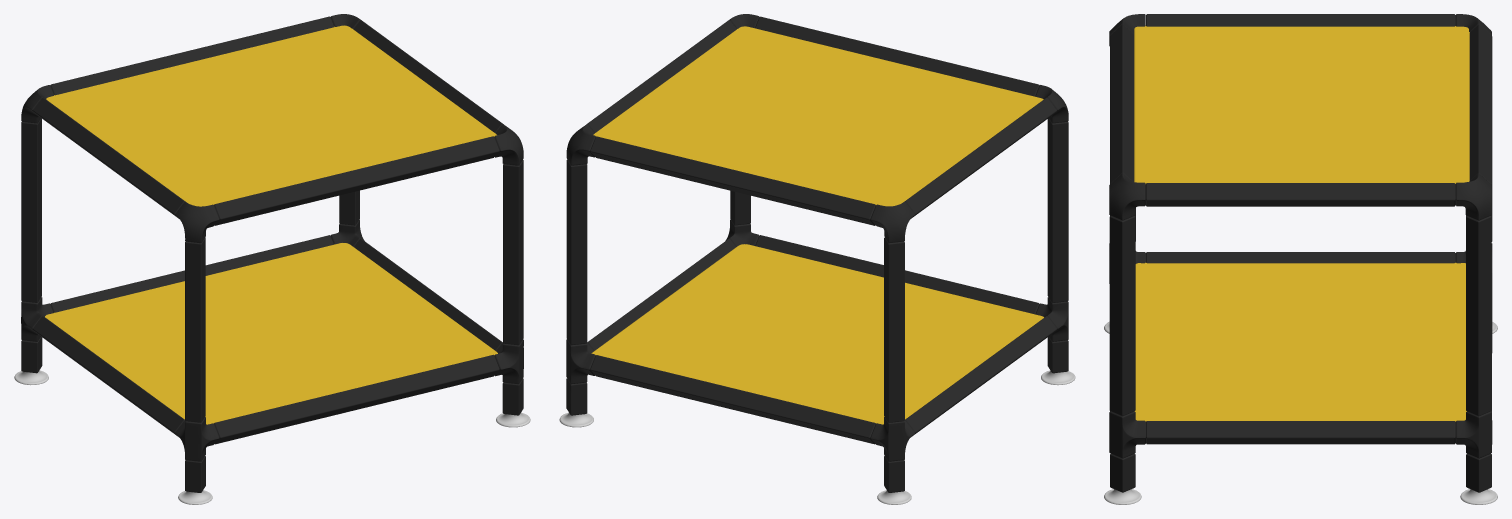
3 renders of one model, left to right at view 1: azimuth 30°, elevation 25°; view 2: azimuth 150°, elevation 25°; view 3: azimuth 270°, elevation 25°, orthographic. The views are drawn at different scales.
Parts seen in each view (by area): view 1: 374x329x229; view 2: 374x329x229; view 3: 374x329x229.
Part boxes in pixels (bbox=[...]): 374x329x229: bbox=[14, 14, 530, 504]; 374x329x229: bbox=[559, 14, 1075, 504]; 374x329x229: bbox=[1104, 14, 1497, 504].
Bounding box in the file's own units: 0.4639 × 0.3682 × 0.4181.
